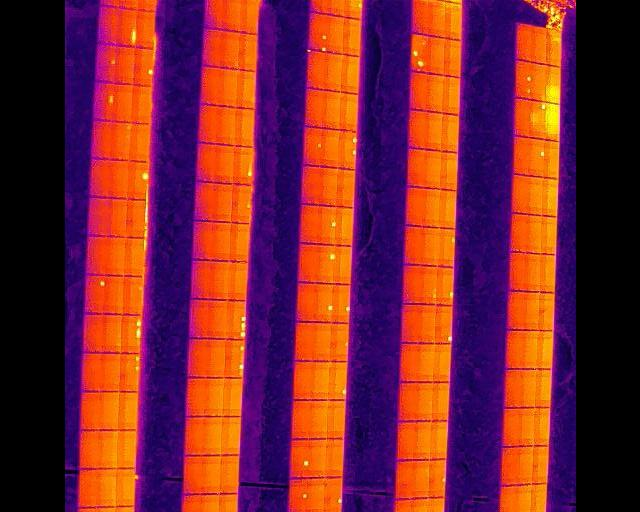Cell: (230, 183, 251, 223), (83, 276, 105, 314), (115, 468, 136, 507), (92, 83, 113, 121), (302, 127, 322, 166), (122, 276, 142, 315), (94, 45, 115, 82), (329, 322, 348, 362), (316, 207, 335, 246), (433, 305, 452, 344), (329, 362, 348, 401), (232, 146, 251, 184), (314, 283, 332, 323), (290, 438, 308, 478), (133, 48, 152, 85), (317, 245, 335, 284), (307, 51, 325, 90), (436, 229, 454, 268), (331, 284, 349, 323), (287, 478, 307, 512), (435, 267, 452, 306), (428, 459, 445, 498), (322, 478, 341, 512), (128, 161, 145, 199), (528, 138, 544, 178), (530, 100, 545, 139), (344, 0, 361, 19)
Cell-Multi: (223, 339, 243, 378), (119, 354, 139, 393), (120, 315, 140, 353), (225, 301, 244, 340), (337, 131, 356, 170), (309, 14, 328, 50), (418, 266, 435, 305), (409, 33, 426, 72), (321, 130, 338, 169), (514, 60, 530, 99), (100, 0, 119, 8)
No-Anomaly: (299, 165, 320, 206), (130, 86, 153, 123), (129, 123, 151, 161), (297, 244, 317, 285), (195, 142, 215, 183), (83, 312, 103, 353), (205, 300, 226, 339), (77, 469, 97, 509), (204, 339, 225, 377), (208, 261, 228, 300), (190, 221, 210, 260), (116, 430, 136, 469), (109, 121, 129, 160), (89, 160, 109, 199), (79, 392, 99, 431), (305, 88, 324, 129), (310, 361, 329, 401), (296, 283, 315, 323), (289, 400, 308, 440), (86, 236, 105, 276), (308, 400, 327, 439), (293, 322, 312, 361), (233, 107, 252, 146), (220, 416, 239, 455), (212, 183, 231, 222), (210, 222, 229, 261), (192, 181, 211, 220), (335, 169, 354, 208), (324, 439, 343, 478), (117, 392, 136, 431), (99, 392, 118, 431), (96, 469, 115, 508), (91, 121, 110, 160), (82, 353, 101, 392), (299, 204, 317, 245), (234, 70, 253, 108), (220, 379, 239, 417), (218, 455, 237, 493), (200, 417, 219, 455), (199, 455, 218, 493), (114, 46, 133, 84), (111, 84, 130, 122), (105, 238, 124, 276), (97, 7, 116, 45), (90, 199, 109, 237), (292, 361, 310, 401), (216, 106, 234, 146), (214, 144, 232, 184), (198, 104, 216, 144), (438, 151, 456, 191), (406, 109, 424, 149), (399, 304, 417, 344), (189, 260, 207, 300), (187, 299, 205, 339), (101, 353, 119, 393), (228, 261, 246, 300), (202, 28, 220, 67), (419, 227, 437, 266), (414, 343, 432, 382), (404, 187, 422, 226), (400, 265, 418, 304), (339, 93, 357, 132), (103, 314, 121, 353), (80, 431, 98, 470), (428, 421, 446, 459), (341, 56, 359, 94), (124, 238, 142, 276), (312, 323, 329, 363), (237, 32, 254, 72), (217, 68, 234, 108), (203, 377, 220, 417), (200, 65, 217, 105), (502, 408, 519, 448), (323, 91, 340, 131), (183, 417, 200, 457), (431, 344, 449, 381), (509, 214, 526, 253), (442, 38, 459, 77), (442, 0, 459, 39), (440, 113, 457, 152), (437, 189, 454, 228), (413, 382, 430, 421), (408, 72, 425, 111), (402, 226, 419, 265), (544, 28, 561, 67), (335, 207, 352, 246), (327, 400, 344, 439), (187, 339, 204, 378), (185, 377, 202, 416), (182, 456, 199, 495), (110, 160, 127, 199), (109, 199, 126, 238), (98, 430, 115, 469), (320, 166, 336, 207), (230, 223, 247, 261), (411, 421, 428, 459), (410, 460, 427, 498), (394, 460, 411, 498), (342, 17, 359, 55), (126, 200, 143, 238), (105, 276, 122, 314), (511, 175, 527, 215), (426, 36, 442, 76), (422, 150, 438, 190), (421, 187, 437, 227), (406, 148, 422, 188), (308, 439, 324, 478), (541, 178, 557, 217), (534, 369, 550, 408), (221, 30, 237, 69), (514, 98, 530, 137), (513, 137, 529, 176), (510, 253, 526, 292), (504, 369, 520, 408), (442, 76, 458, 115), (431, 382, 447, 421), (426, 74, 442, 113), (425, 111, 441, 150), (398, 343, 414, 382), (397, 382, 413, 421), (395, 421, 411, 460), (335, 246, 351, 285), (326, 53, 342, 92), (526, 177, 542, 216), (502, 448, 518, 486), (427, 0, 443, 38), (137, 11, 153, 49), (239, 0, 257, 33), (540, 216, 555, 255), (540, 254, 555, 293), (538, 293, 553, 332), (537, 330, 552, 369), (531, 446, 546, 485), (510, 291, 525, 330), (508, 330, 523, 369), (418, 305, 433, 344), (519, 369, 534, 408), (533, 408, 548, 446), (544, 65, 559, 103), (516, 24, 531, 62), (328, 15, 343, 52), (531, 63, 545, 102), (526, 253, 540, 292), (519, 408, 533, 447), (221, 0, 238, 32), (203, 0, 221, 30), (544, 140, 558, 178), (526, 215, 540, 253), (523, 331, 537, 369), (517, 447, 531, 485), (412, 0, 427, 35), (307, 478, 322, 512), (545, 102, 558, 140), (531, 26, 544, 64), (526, 292, 539, 330), (530, 484, 545, 512), (501, 485, 516, 512), (516, 484, 529, 512), (218, 493, 237, 512), (198, 494, 217, 512), (180, 495, 199, 512), (310, 0, 329, 14), (329, 0, 344, 17), (426, 497, 442, 512), (409, 498, 425, 512), (137, 0, 155, 12), (394, 498, 409, 512), (120, 0, 138, 10)
Unclassified: (116, 9, 136, 46)
